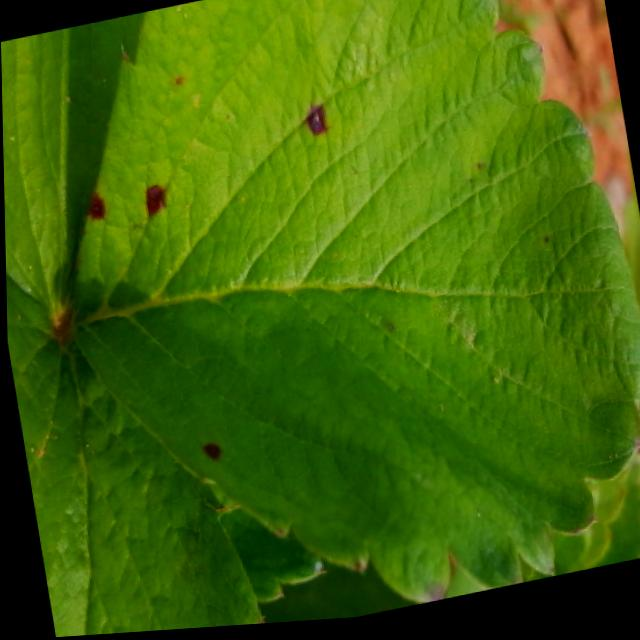Leaf Spot: (56, 0, 640, 610), (5, 267, 263, 638), (256, 567, 422, 627)
